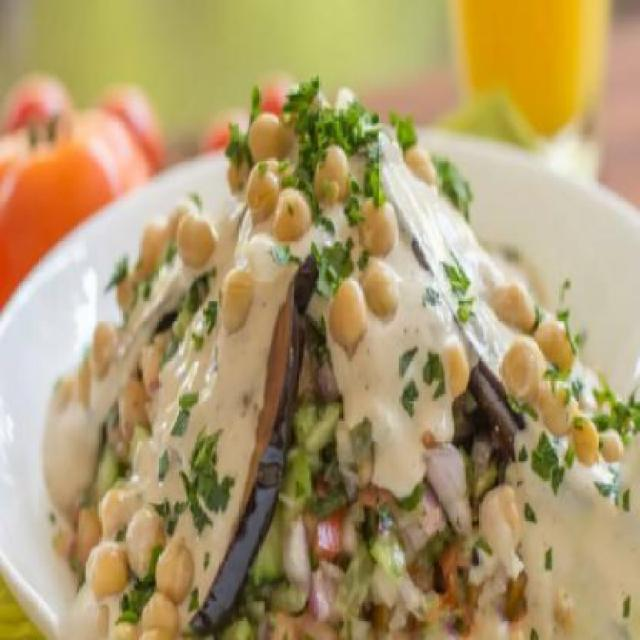eggplant: (194, 252, 320, 634), (109, 282, 183, 469), (447, 364, 516, 451)
